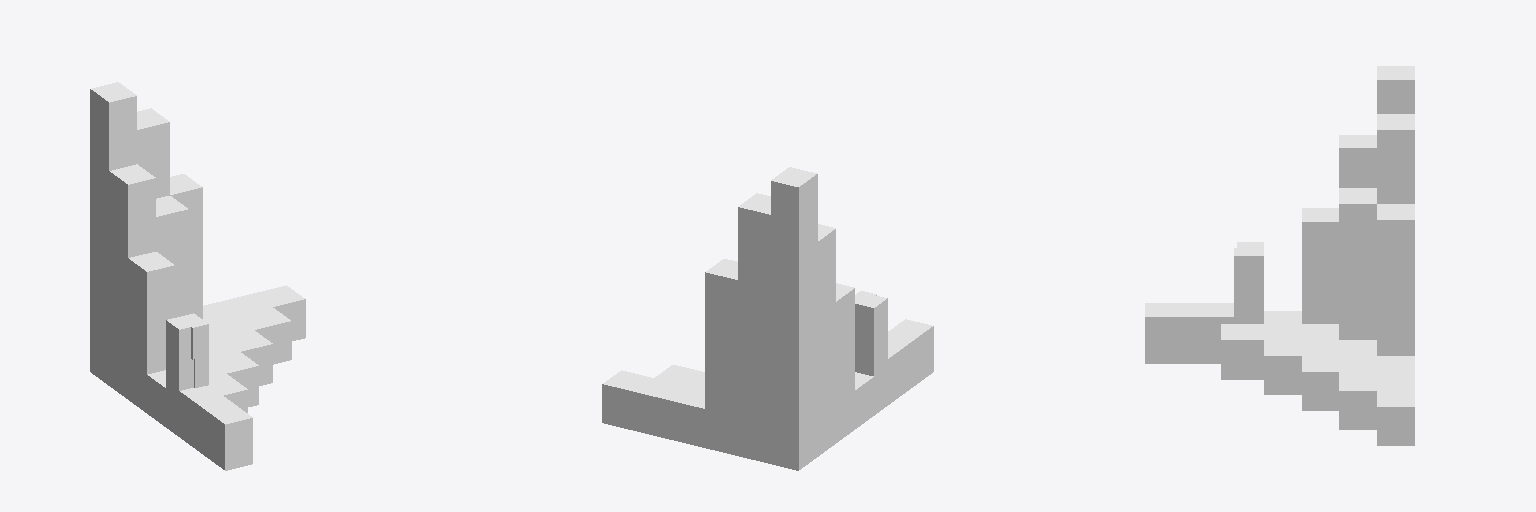
The model's file is MushroomDaddyInterior_01-16.obj.
3 renders of one model, left to right at view 1: azimuth 30°, elevation 25°; view 2: azimuth 150°, elevation 25°; view 3: azimuth 270°, elevation 25°, orthographic.
Visible parts, largest first — view 1: MushroomDaddyInterior_01-16; view 2: MushroomDaddyInterior_01-16; view 3: MushroomDaddyInterior_01-16.
Boxes of the visible parts, box(x1,y1,x2,y2) form: MushroomDaddyInterior_01-16: box(90, 82, 305, 470); MushroomDaddyInterior_01-16: box(602, 167, 933, 470); MushroomDaddyInterior_01-16: box(1145, 66, 1414, 445).
Bounding box in the file's own units: 84 × 116 × 100.